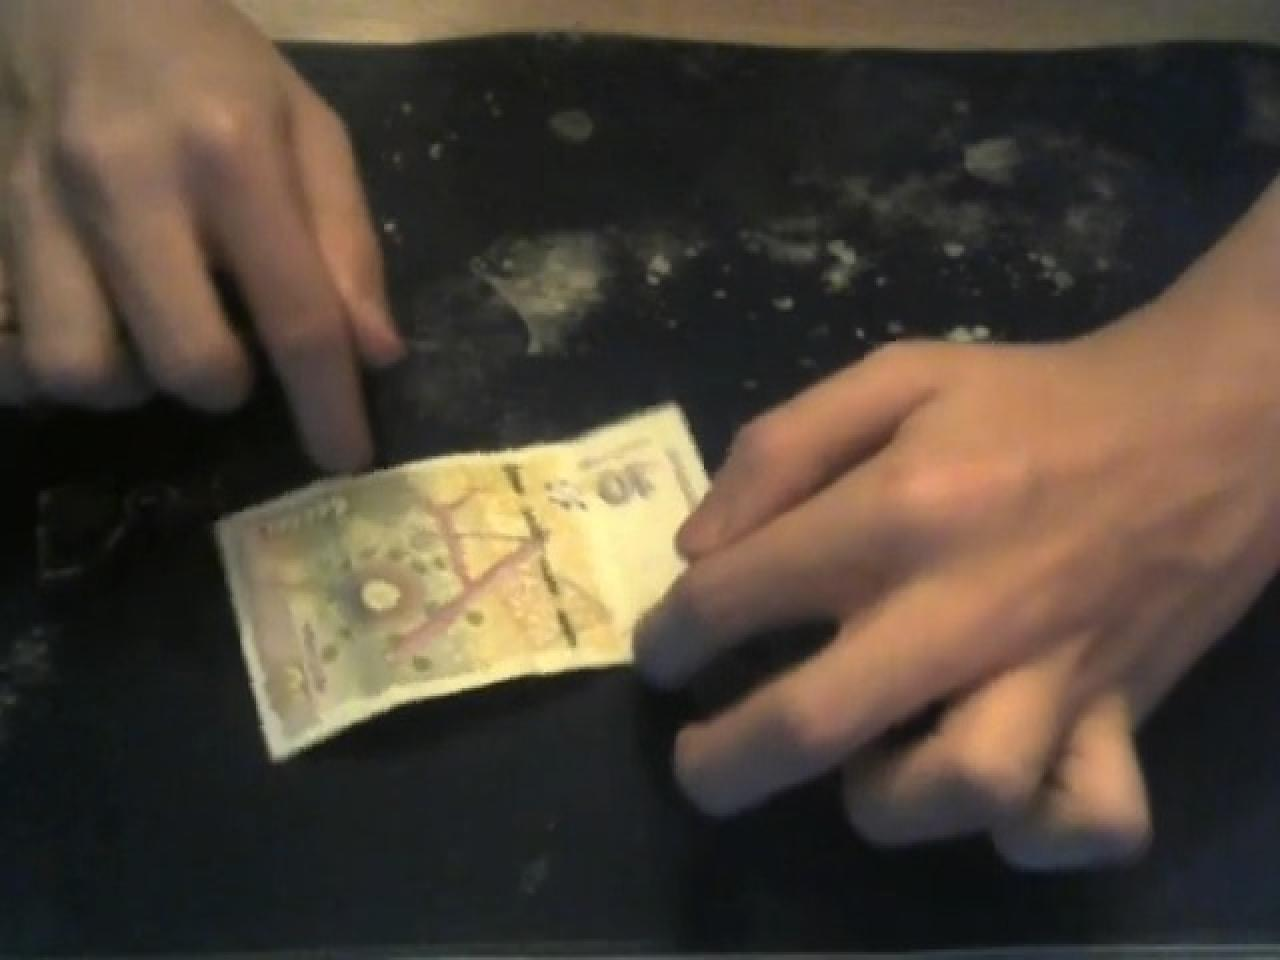10leva: (210, 402, 712, 768)
